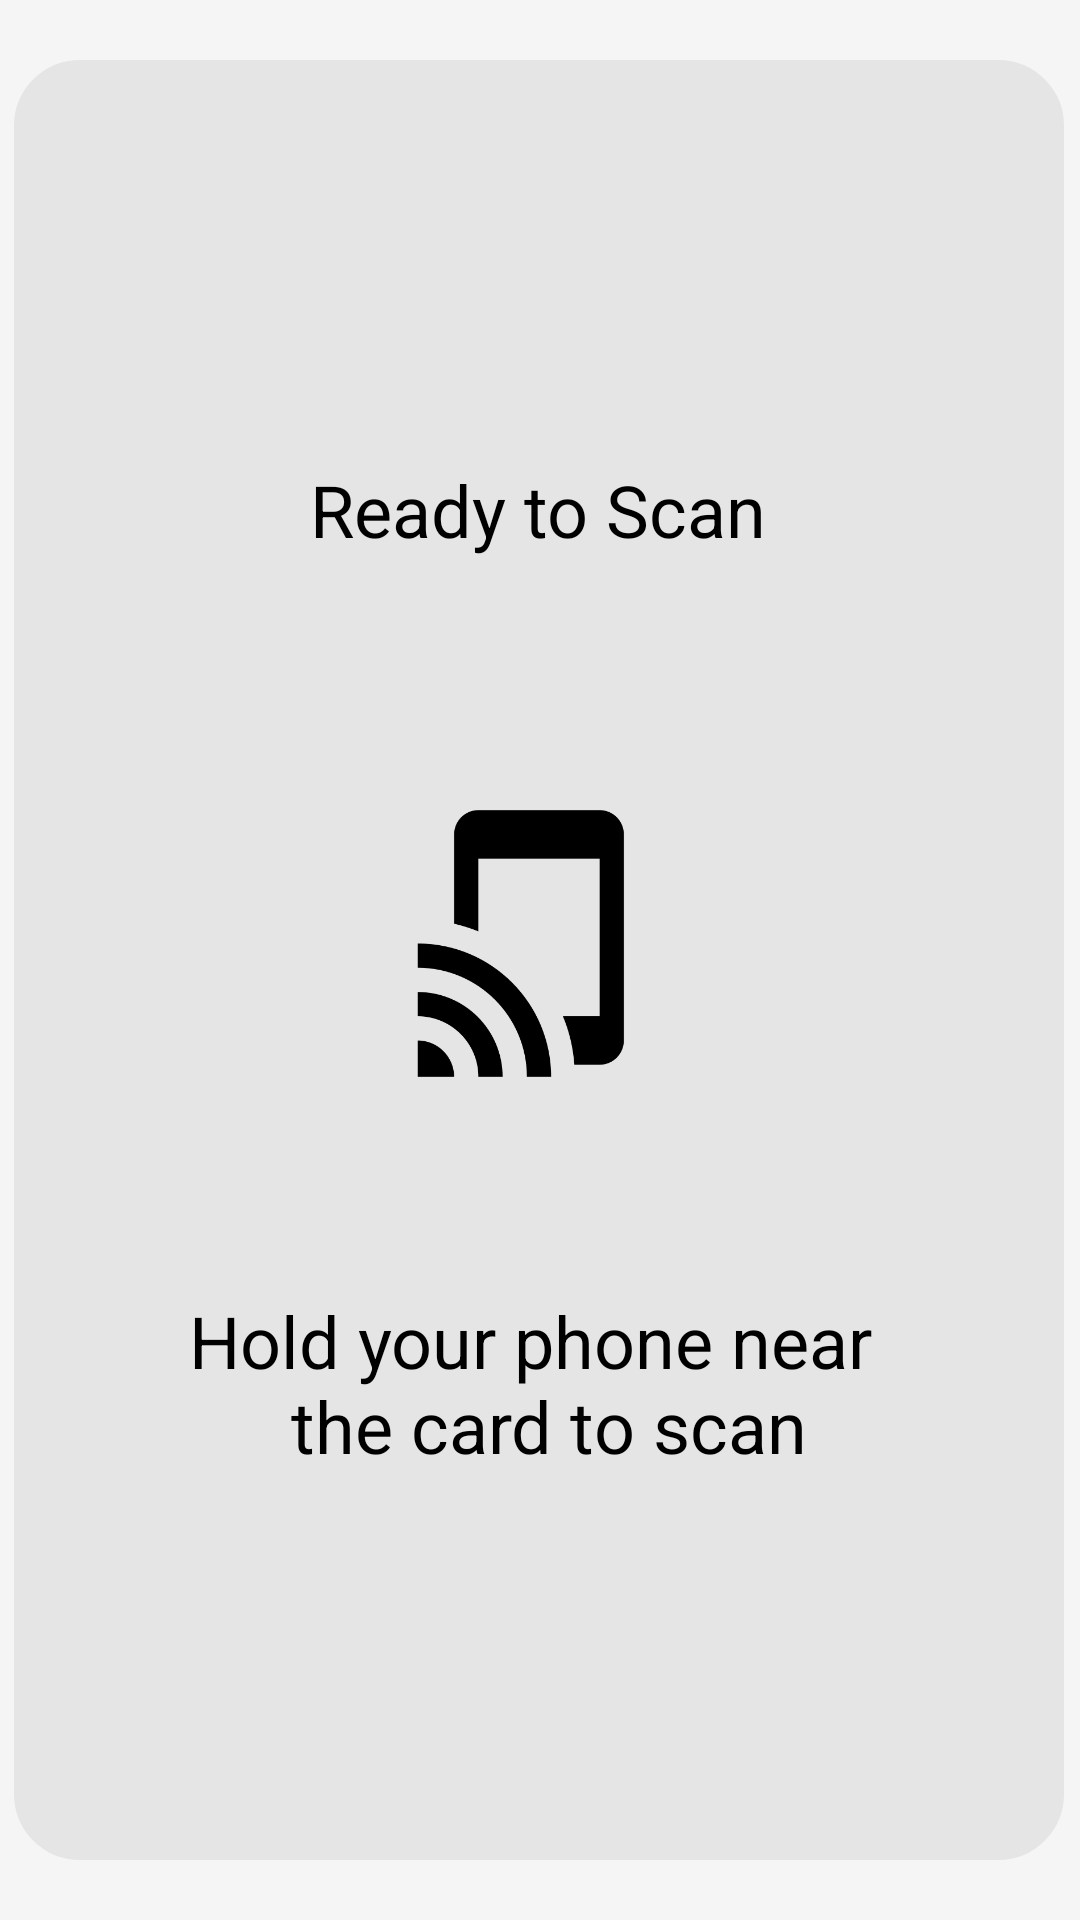

Locate icon controls on the screen. Image size 1080 × 1920, boxes as (x1, y1, x2, y2).
nfc scan: (417, 810, 624, 1077)
